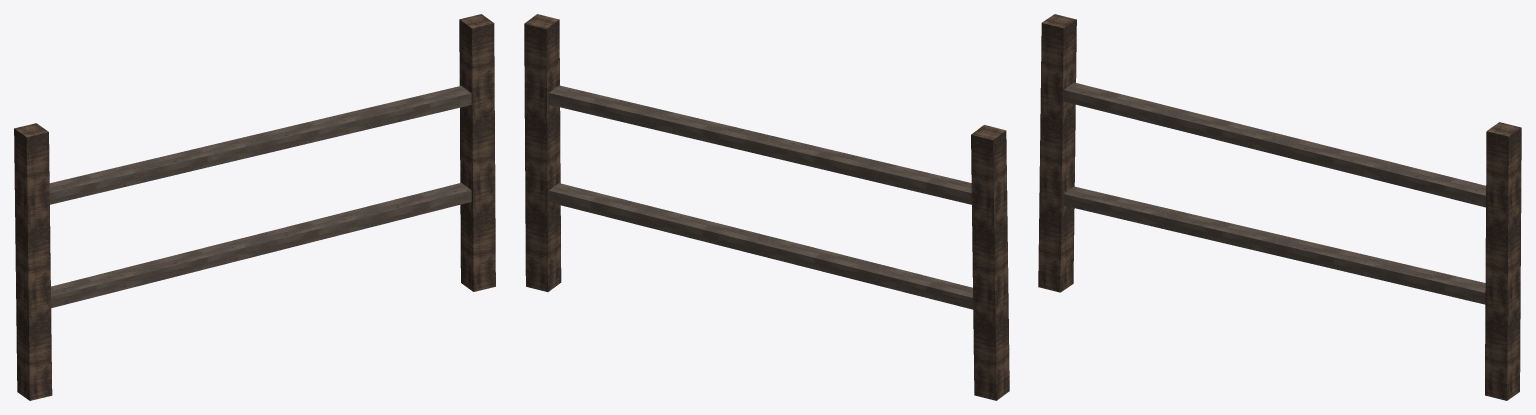
File: prop_fence_v2.glb
The picture shows the model from 3 angles, left to right: view 1: azimuth 30°, elevation 25°; view 2: azimuth 150°, elevation 25°; view 3: azimuth 330°, elevation 25°; orthographic projection.
Parts seen in each view (by area): view 1: prop_fence_v2; view 2: prop_fence_v2; view 3: prop_fence_v2.
Boxes of the visible parts, box(x1,y1,x2,y2) form: prop_fence_v2: box(14, 14, 495, 400); prop_fence_v2: box(524, 14, 1009, 400); prop_fence_v2: box(1038, 14, 1521, 400).
Bounding box in the file's own units: 2.1 × 1.13 × 0.1268.
Materials: 2 (2 with a texture image).
